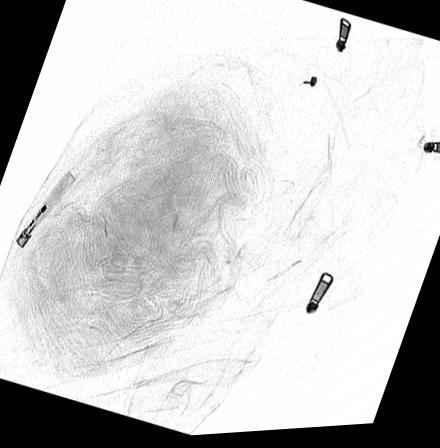Lighter: (13, 171, 76, 249)
